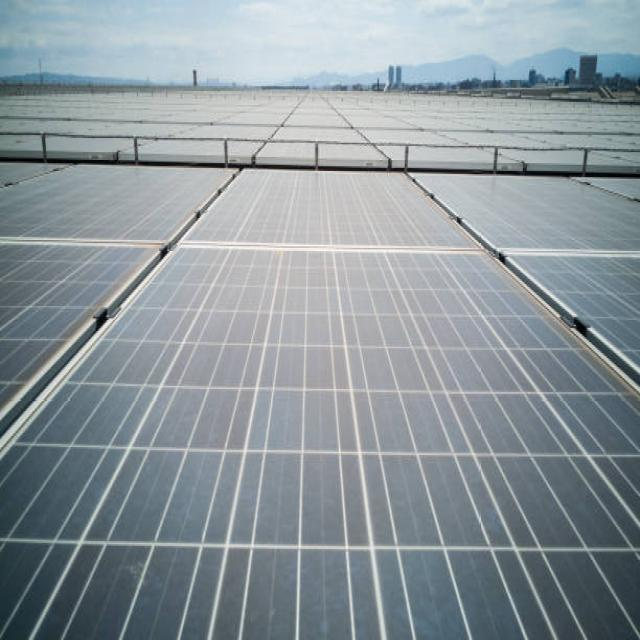Photovoltaic-Panel: (0, 88, 640, 640)
